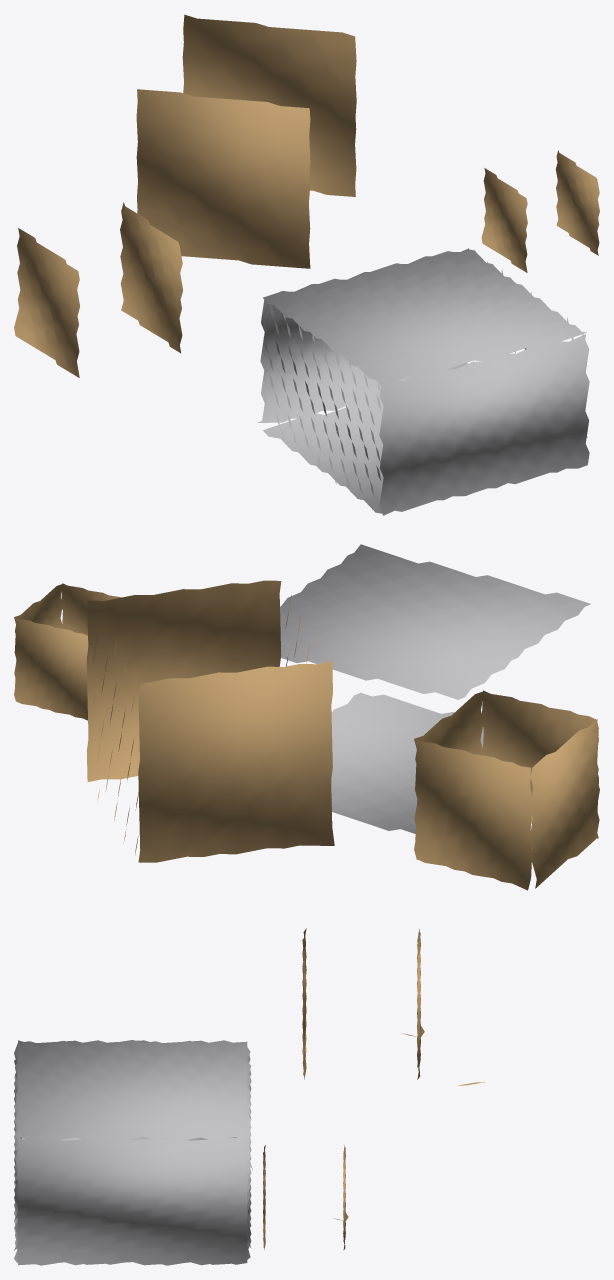
Rendered from fixture_source.glb.
3 renders of one model, top to bottom at view 1: azimuth 30°, elevation 25°; view 2: azimuth 150°, elevation 25°; view 3: azimuth 270°, elevation 25°, orthographic. The views are drawn at different scales.
Parts seen in each view (by area): view 1: Rock_0001, Crate_0002, Crate_0001, Crate_0003; view 2: Crate_0002, Rock_0001, Crate_0001, Crate_0003; view 3: Rock_0001, Crate_0001, Crate_0003.
Boxes of the visible parts, left/top/right/bottom form: Rock_0001: left=257, top=248, right=589, bottom=515; Crate_0002: left=136, top=14, right=356, bottom=268; Crate_0001: left=14, top=202, right=182, bottom=377; Crate_0003: left=481, top=150, right=599, bottom=272; Crate_0002: left=86, top=580, right=334, bottom=862; Rock_0001: left=280, top=544, right=590, bottom=833; Crate_0001: left=414, top=690, right=599, bottom=890; Crate_0003: left=14, top=583, right=121, bottom=720; Rock_0001: left=14, top=1040, right=252, bottom=1265; Crate_0001: left=302, top=928, right=424, bottom=1079; Crate_0003: left=263, top=1145, right=348, bottom=1250.
Size of the model in its own units: 4.91 by 2.42 by 5.12.
